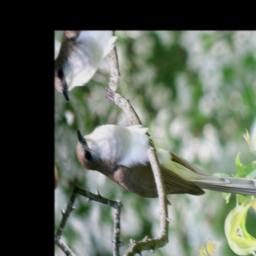Cuckoo: (69, 48, 256, 256)
